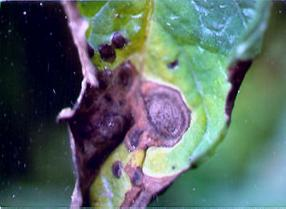Tomato Early blight leaf: (56, 2, 273, 208)
